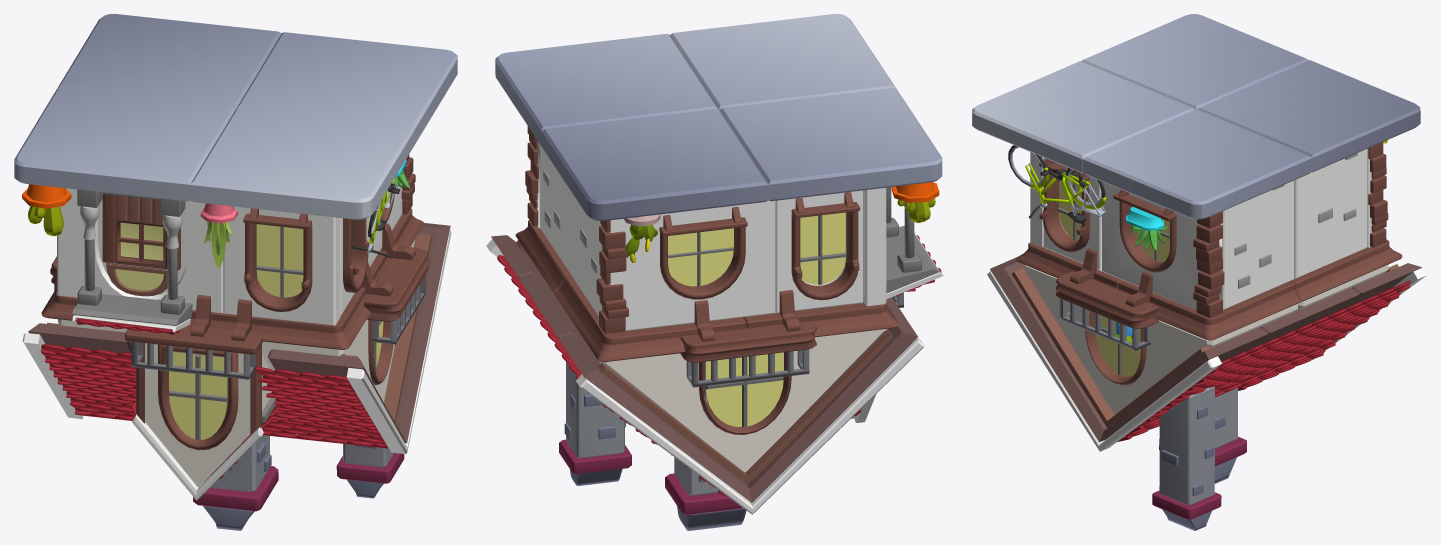
Rendered from Level_House_03.fbx.
3 renders of one model, left to right at view 1: azimuth 30°, elevation 25°; view 2: azimuth 150°, elevation 25°; view 3: azimuth 270°, elevation 25°, orthographic. The views are drawn at different scales.
Parts seen in each view (by area): view 1: House_03_58, House_03_21, House_03_89, House_03_57, House_03_20, House_03_52, House_03_41, House_03_80, House_03_15, House_03_28, House_03_66, House_03_70 (+39 smaller); view 2: House_03_57, House_03_21, House_03_89, House_03_58, House_03_47, House_03_48, House_03_38, House_03_64, House_03_24, House_03_12, House_03_34, House_03_31 (+32 smaller); view 3: House_03_89, House_03_58, House_03_57, House_03_21, House_03_75, House_03_94, House_03_76, House_03_80, House_03_98, House_03_93, House_03_85, House_03_86 (+34 smaller).
Part boxes in pixels (box(x1,y1,x2,y2)): House_03_58: box(190, 108, 415, 219); House_03_21: box(14, 88, 235, 201); House_03_89: box(236, 32, 457, 143); House_03_57: box(57, 14, 281, 108); House_03_20: box(57, 188, 223, 313); House_03_52: box(223, 206, 340, 325); House_03_41: box(136, 343, 275, 487); House_03_80: box(268, 223, 450, 443); House_03_15: box(102, 194, 180, 270); House_03_28: box(169, 351, 227, 439); House_03_66: box(208, 266, 378, 349); House_03_70: box(262, 405, 388, 448); House_03_57: box(541, 108, 768, 220); House_03_21: box(719, 87, 942, 201); House_03_89: box(495, 33, 718, 145); House_03_58: box(669, 14, 896, 109); House_03_47: box(609, 200, 775, 330); House_03_48: box(598, 328, 887, 472); House_03_38: box(558, 297, 917, 502); House_03_64: box(554, 274, 746, 361); House_03_24: box(576, 337, 924, 514); House_03_12: box(775, 190, 862, 313); House_03_34: box(704, 352, 783, 426); House_03_31: box(598, 329, 893, 483); House_03_89: box(1082, 109, 1312, 219); House_03_58: box(972, 61, 1194, 173); House_03_57: box(1197, 60, 1420, 172); House_03_21: box(1081, 14, 1308, 109); House_03_75: box(1294, 149, 1366, 278); House_03_94: box(1222, 180, 1294, 309); House_03_76: box(1025, 265, 1297, 414); House_03_80: box(990, 257, 1268, 442); House_03_98: box(1159, 386, 1214, 504); House_03_93: box(1101, 181, 1222, 310); House_03_85: box(1118, 280, 1300, 340); House_03_86: box(1012, 268, 1210, 427).
Bounding box in the file's own units: 0.0698 × 0.0622 × 0.0703.
